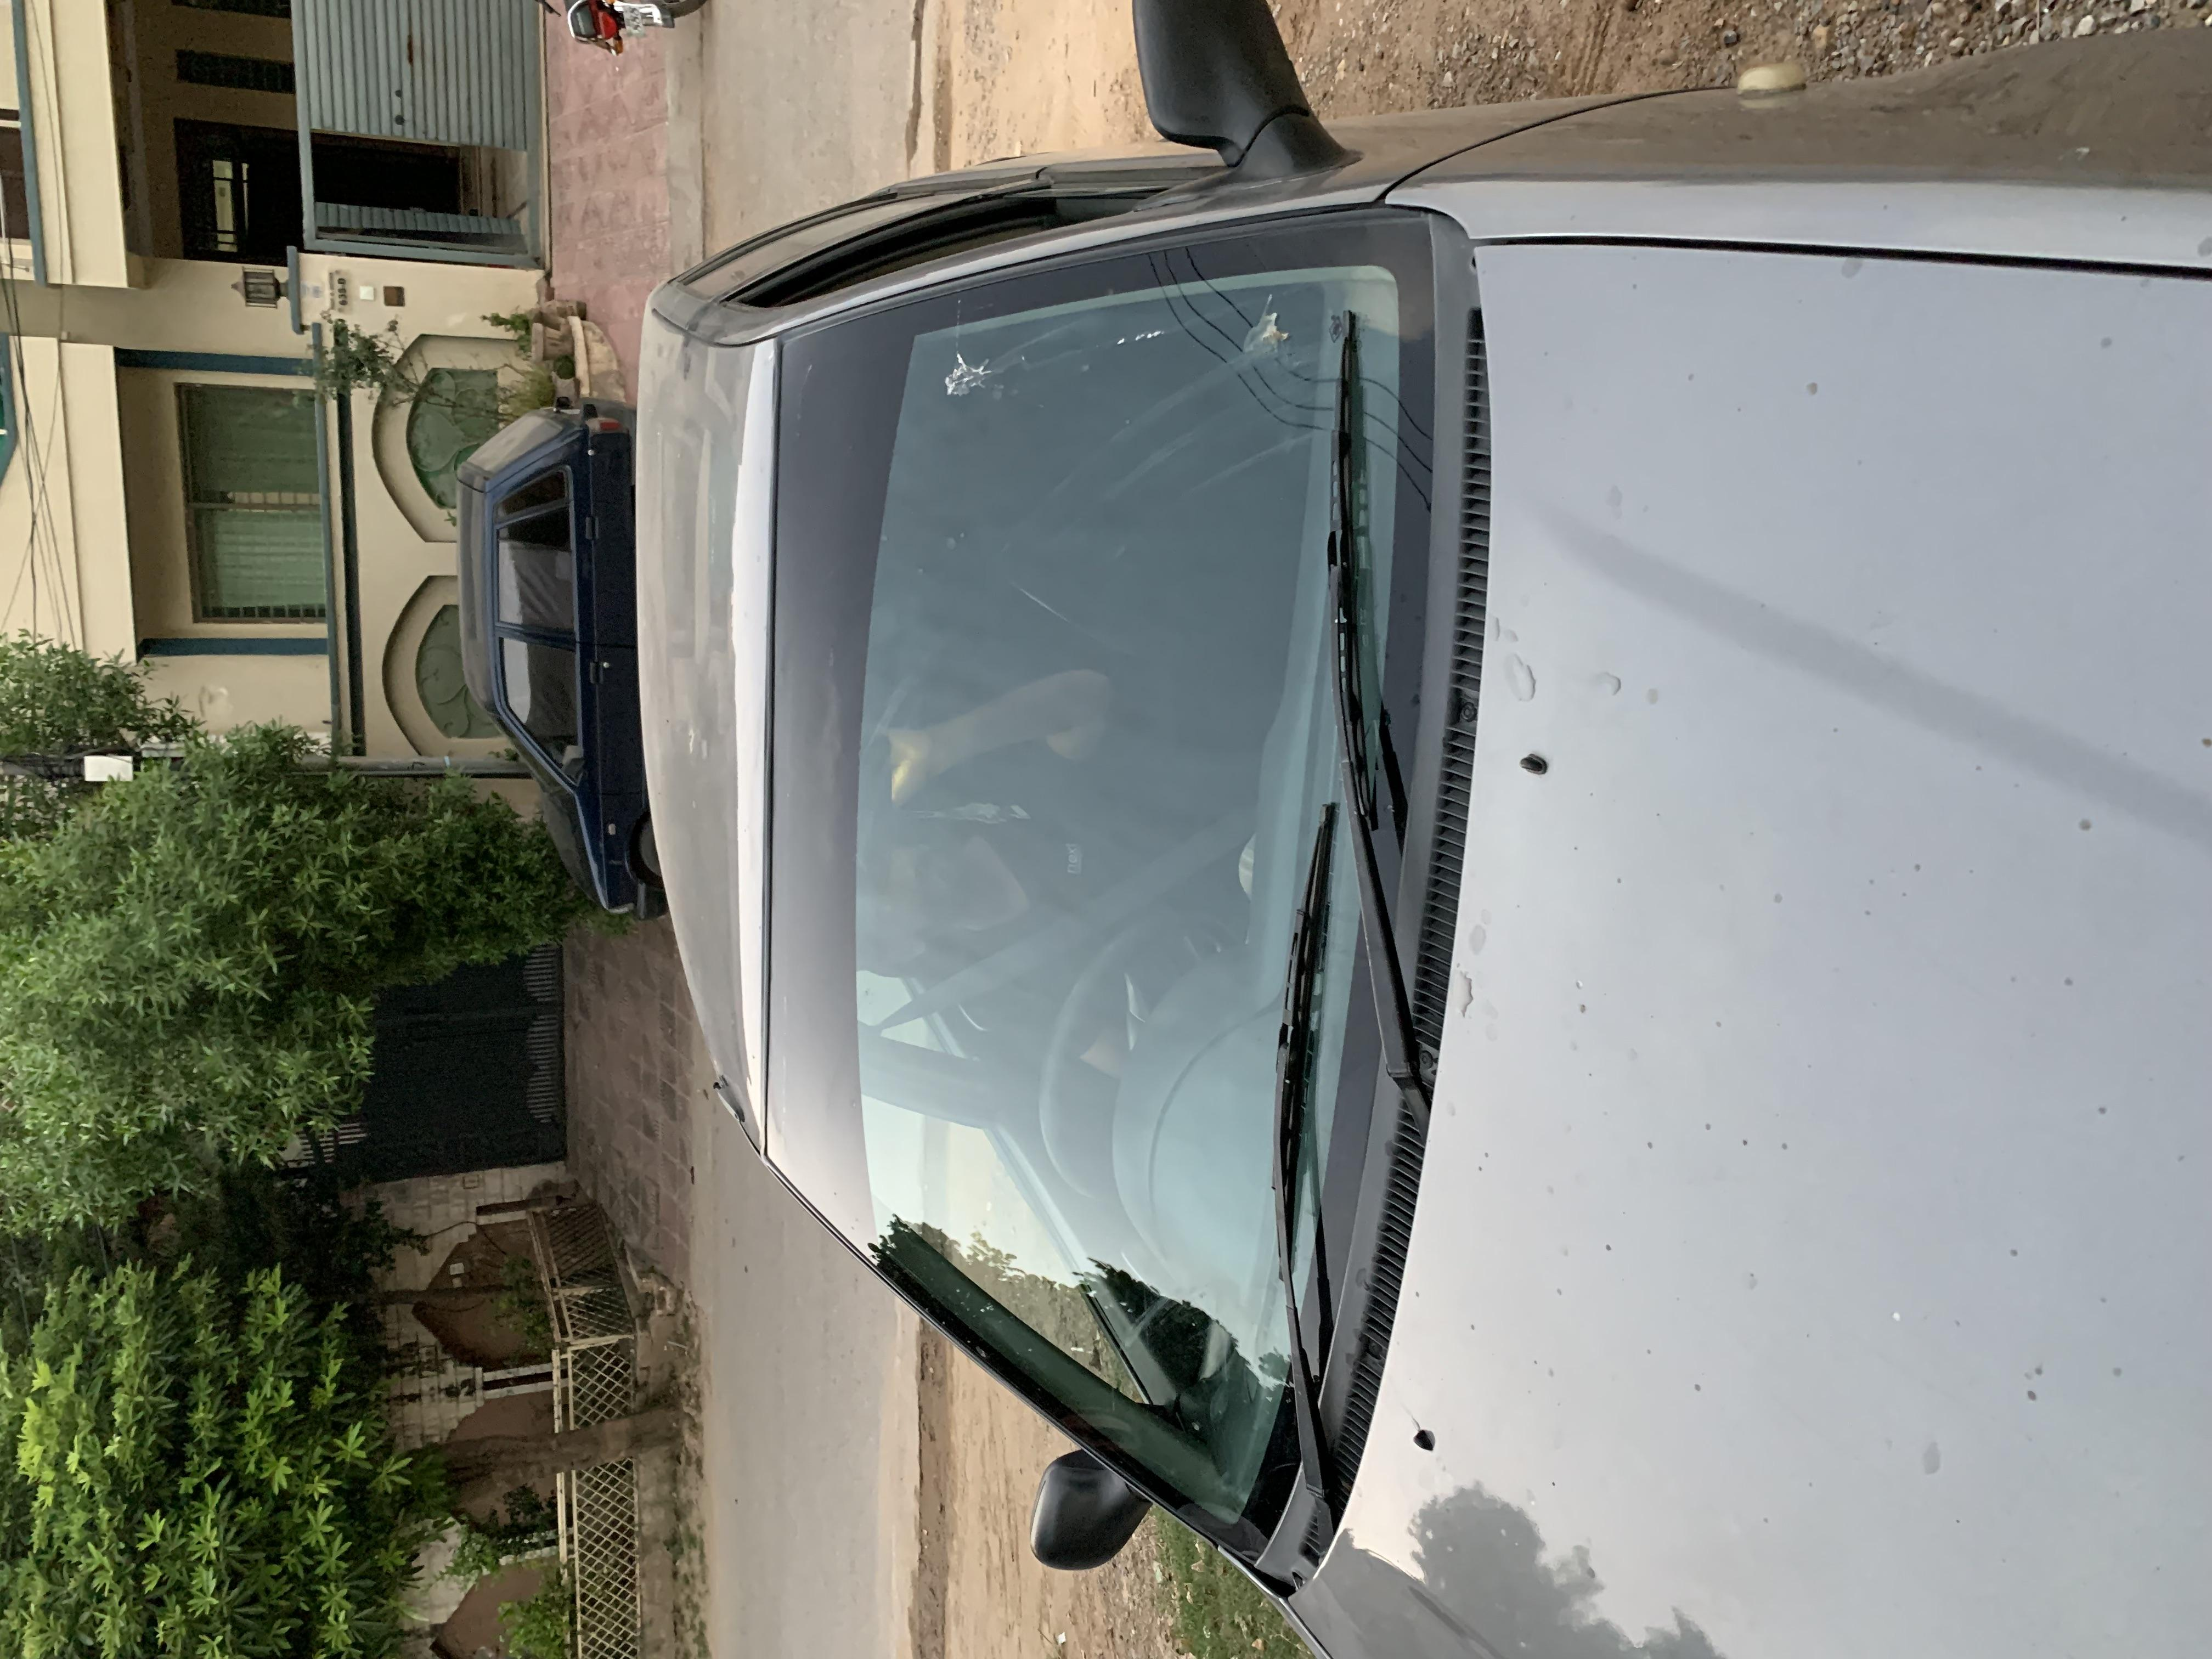windshield: (89, 572, 1874, 1098)
